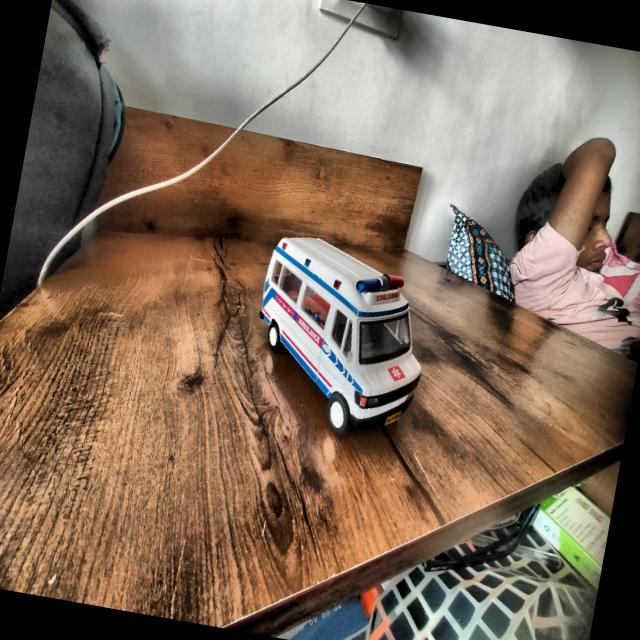Ambulance: (240, 231, 440, 447)
